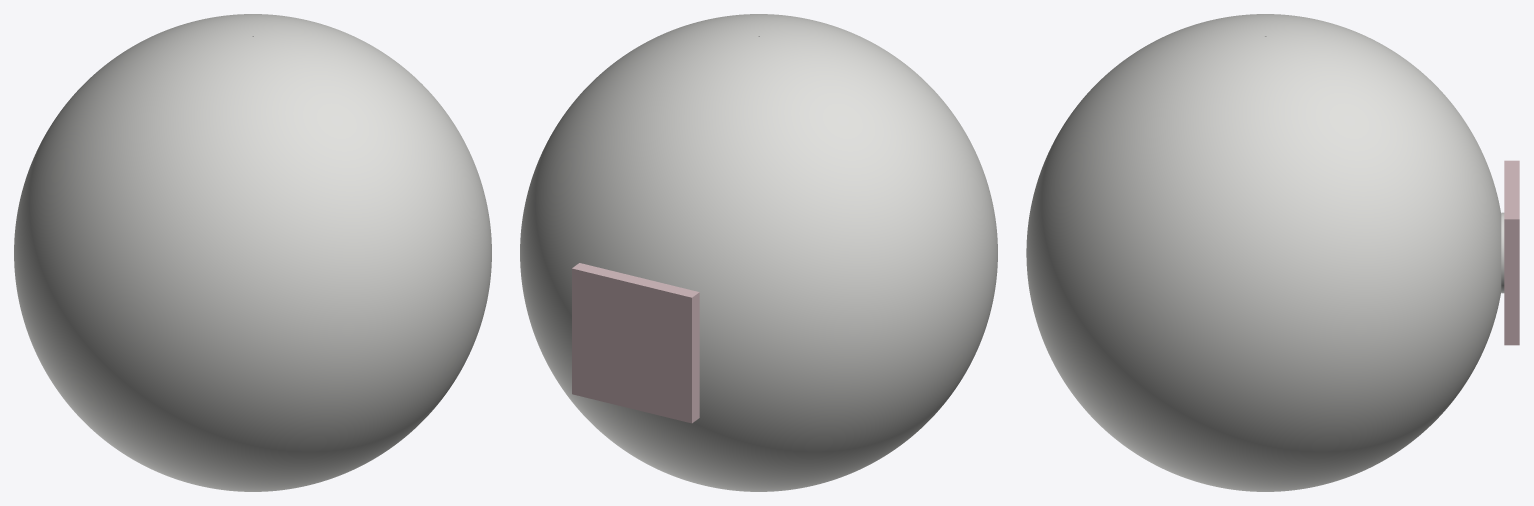
3 views of the same model, side by side, from view 1: azimuth 30°, elevation 25°; view 2: azimuth 150°, elevation 25°; view 3: azimuth 270°, elevation 25° (orthographic).
Visible parts, largest first — view 1: 球壳; view 2: 球壳, 实体1:1; view 3: 球壳, 实体1:1.
Boxes of the visible parts, box(x1,y1,x2,y2) form: 球壳: box(14, 14, 491, 491); 球壳: box(520, 14, 997, 491); 实体1:1: box(572, 263, 699, 423); 球壳: box(1026, 14, 1504, 491); 实体1:1: box(1504, 160, 1519, 345).
Size of the model in its own units: 156 by 156 by 161.
